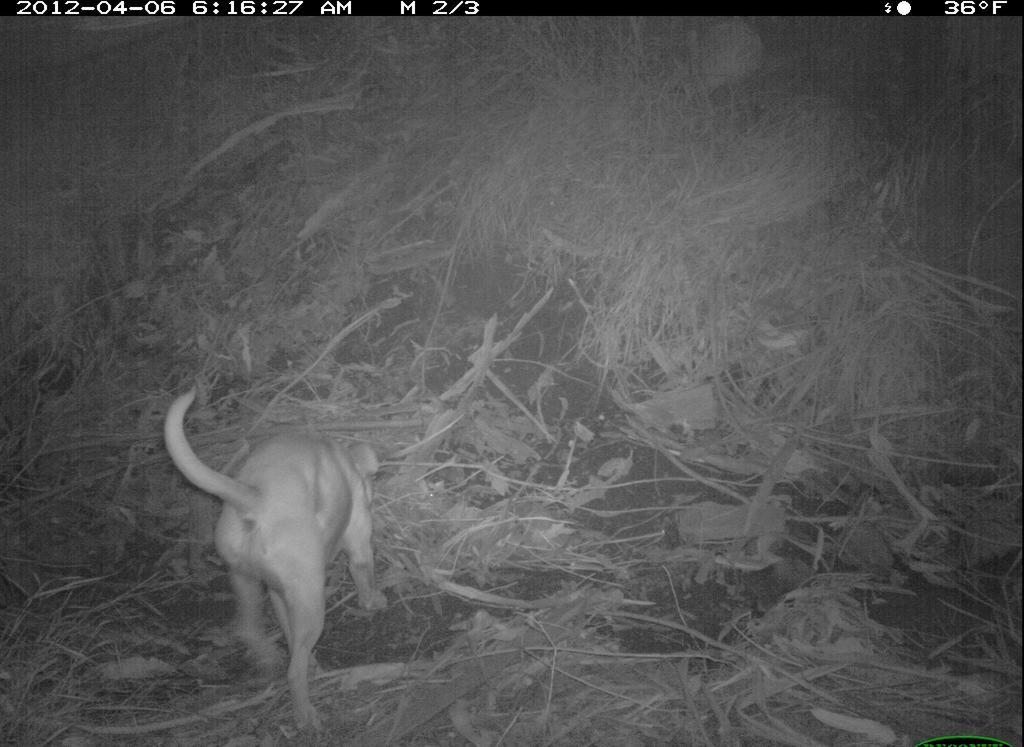dog: (157, 376, 410, 747)
